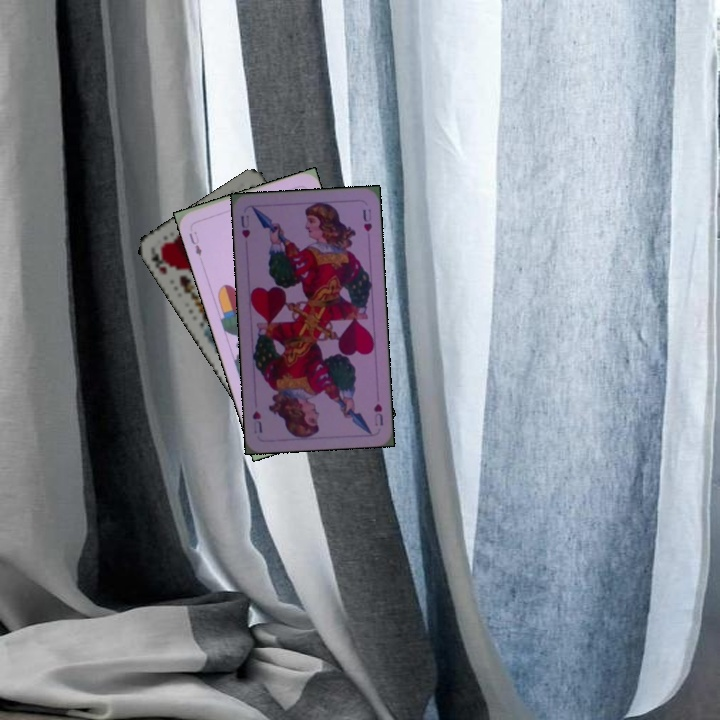EU: (185, 227, 204, 259)
HK: (147, 244, 170, 277)
HU: (237, 211, 253, 240), (370, 399, 385, 428)
